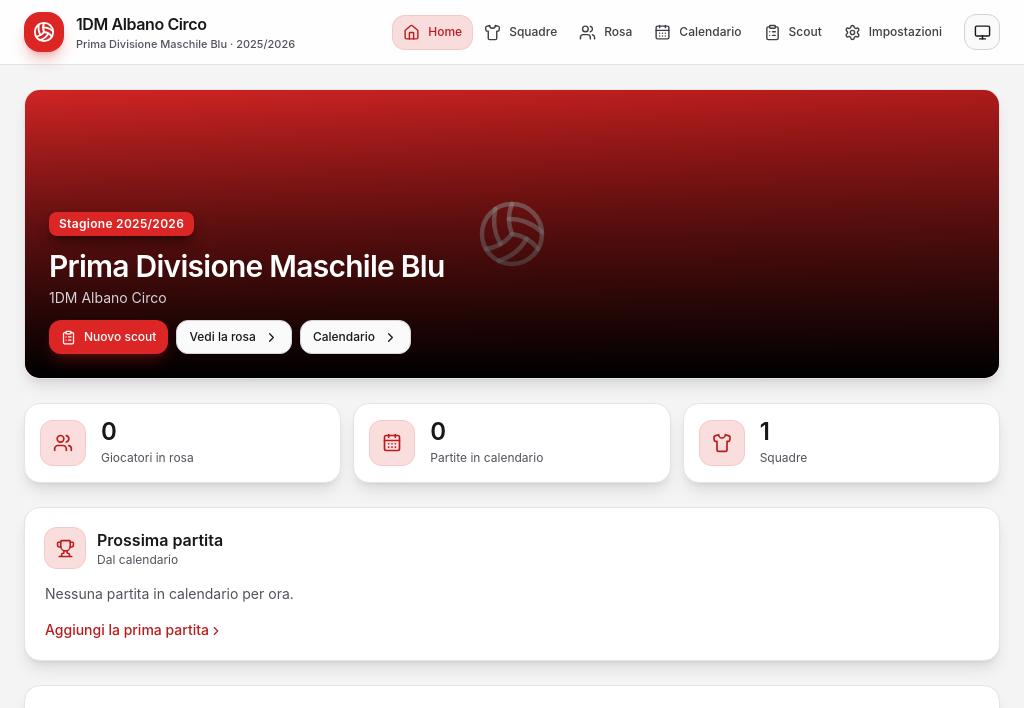
scout › crea un nuovo scout dalla home e apre la schermata di scouting
The image size is (1024, 708).
Click the link "Nuovo scout" at (109, 337), box [49, 320, 168, 354]
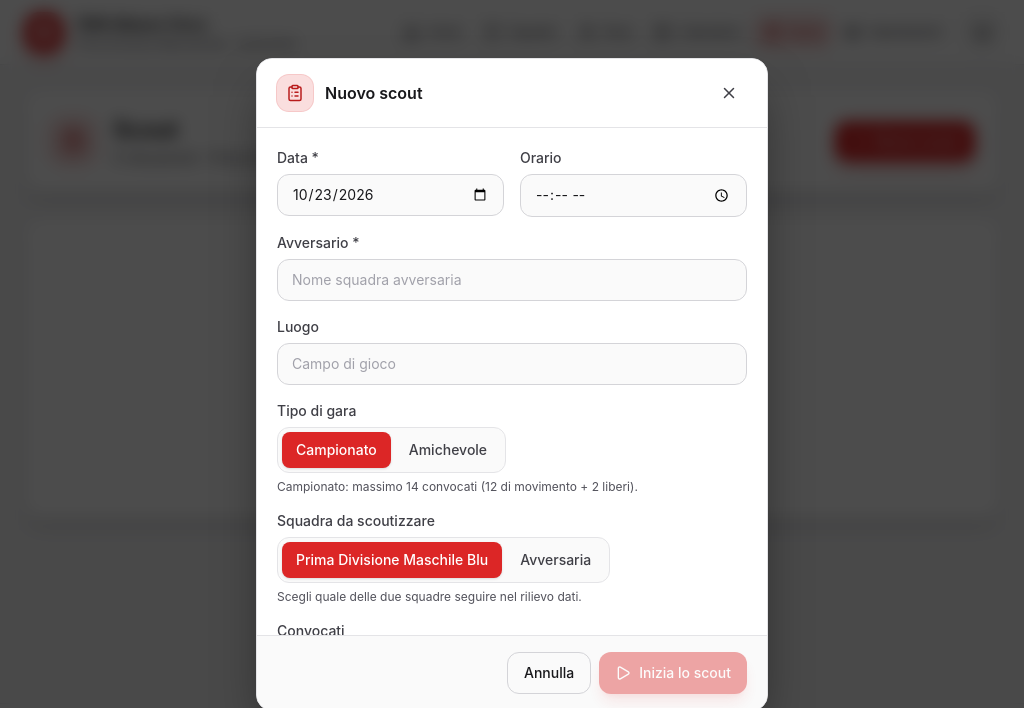
Type "Volley Team" into the field labelled "Avversario *" at (512, 279), box [277, 258, 747, 300]
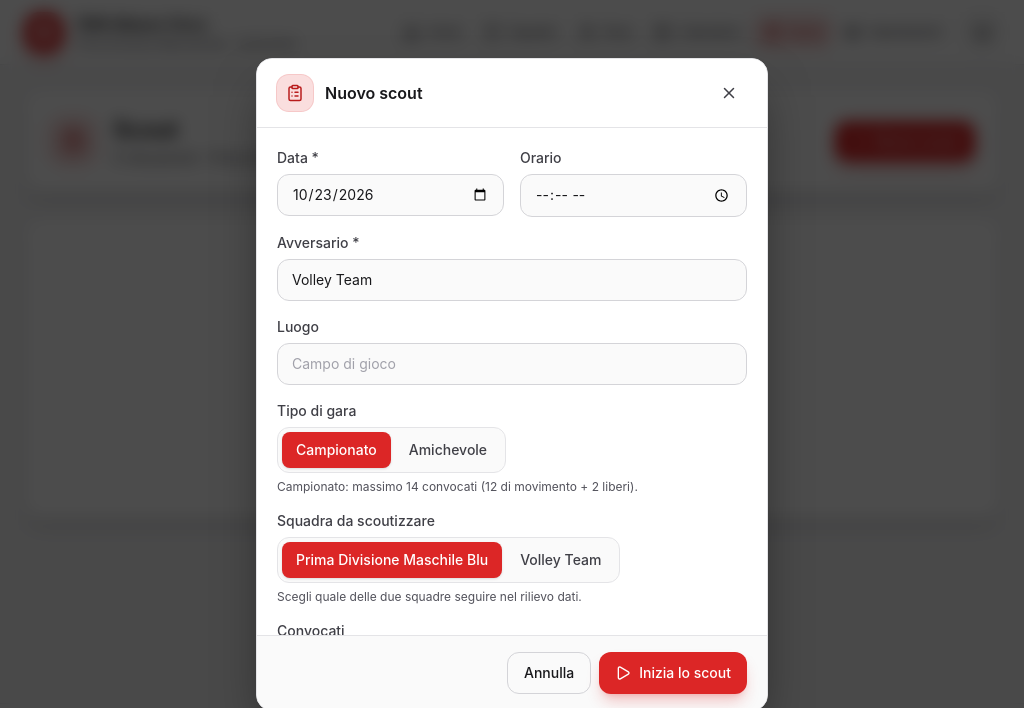
Click the button "Inizia lo scout" at (673, 672), box [599, 651, 747, 693]
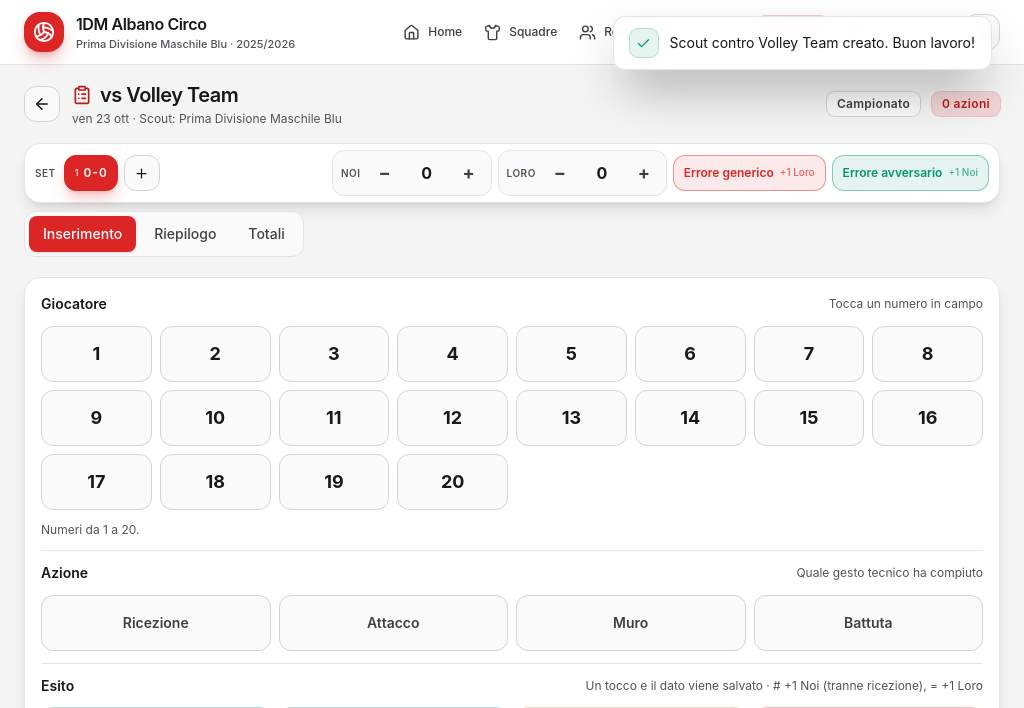
Check: the heading "vs Volley Team" is shown, box [72, 83, 238, 107]
